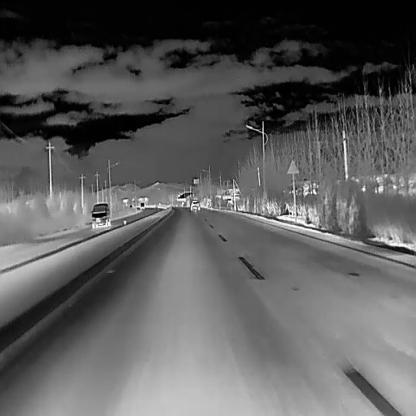car: (89, 202, 111, 228), (190, 199, 200, 213)
truck: (142, 206, 144, 210)
